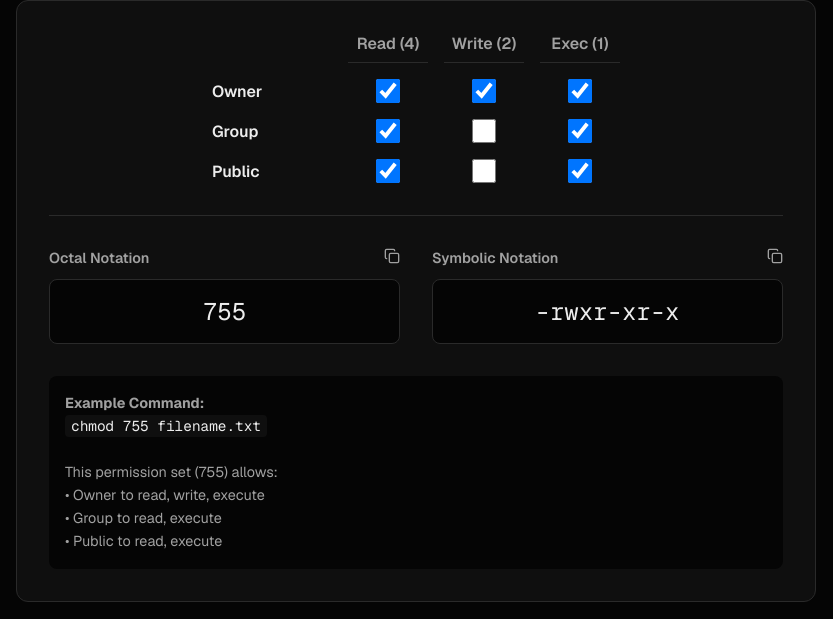
it: ChmodCalculator › updates octal value when checkboxes change
Click the 5th checkbox.
click(484, 131)  # box [472, 119, 496, 143]
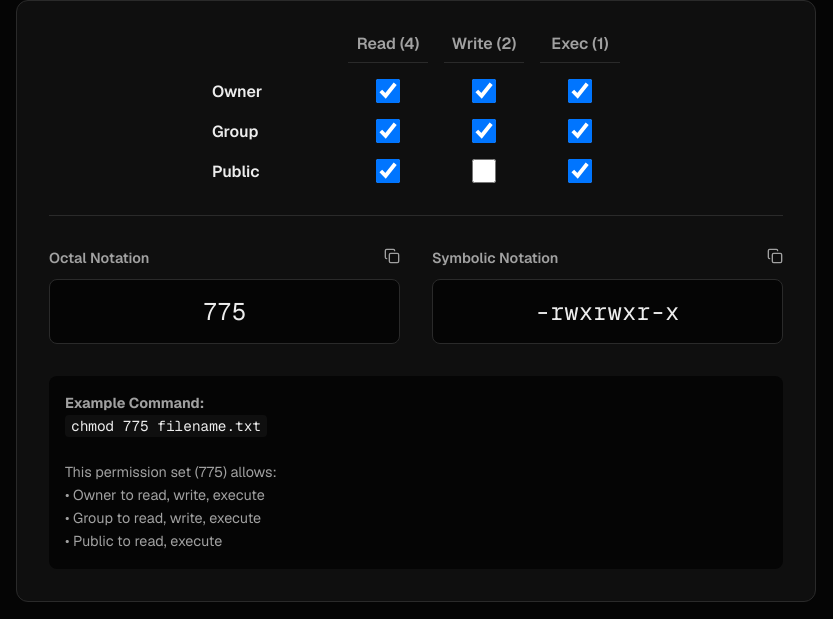
Expected: the field showing "775" below "Octal Notation" is shown, [49, 279, 400, 344]
Expected: the field showing "-rwxrwxr-x" below "Symbolic Notation" is shown, [432, 279, 783, 344]
